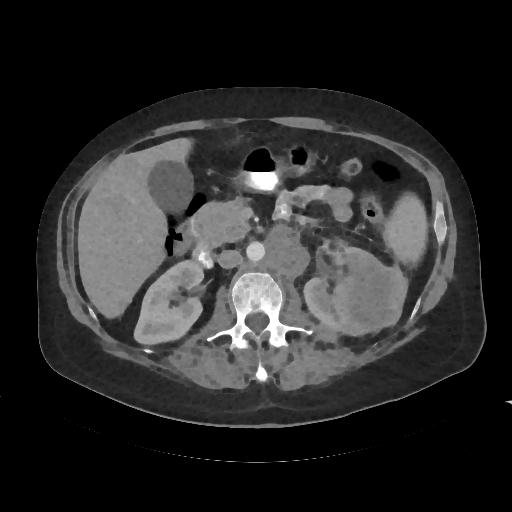Lesion: (327, 262, 408, 336)
